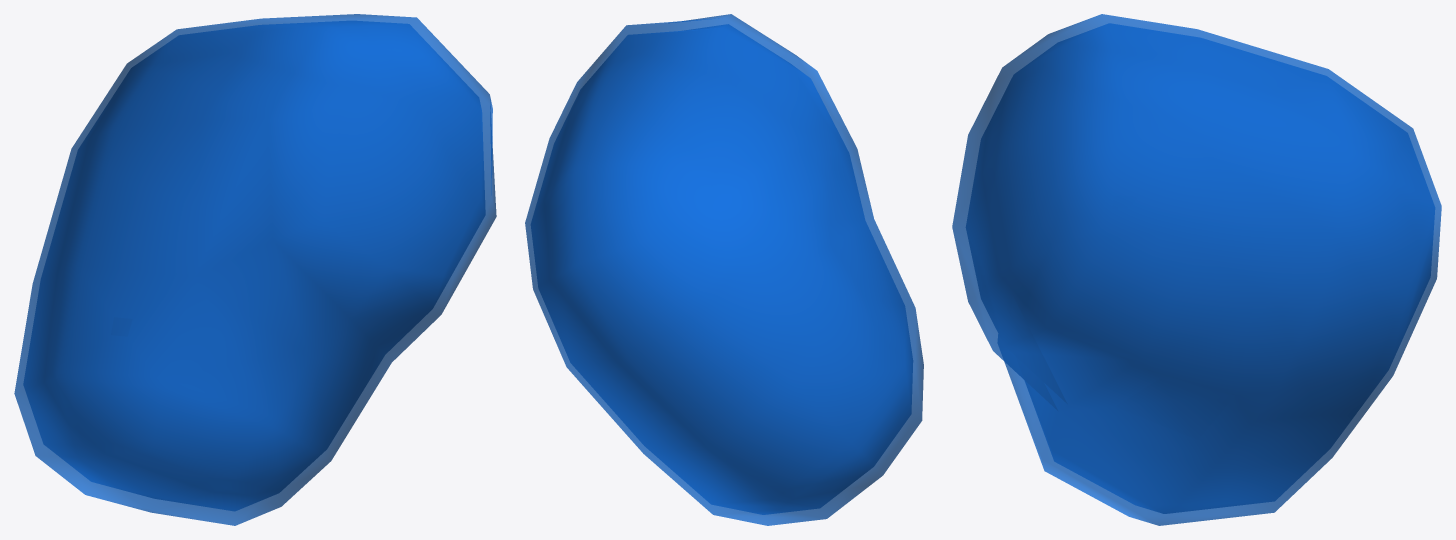
Rendered from vacuole.fbx.
The picture shows the model from 3 angles, left to right: view 1: azimuth 30°, elevation 25°; view 2: azimuth 150°, elevation 25°; view 3: azimuth 270°, elevation 25°; orthographic projection. The views are drawn at different scales.
Visible parts, largest first — view 1: vacuole; view 2: vacuole; view 3: vacuole.
Part boxes in pixels (x1,y1,x2,y2): vacuole: [14, 14, 496, 525]; vacuole: [525, 14, 923, 525]; vacuole: [952, 14, 1441, 525].
Bounding box in the file's own units: 1632 × 1939 × 1546.
